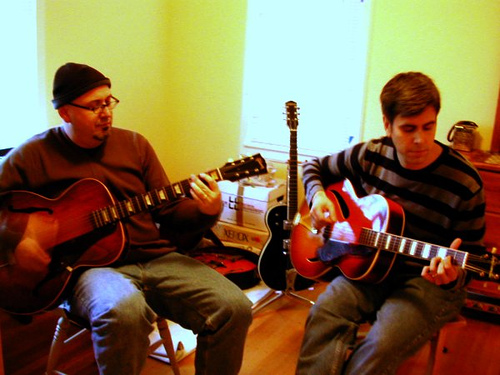guitar: (1, 153, 269, 324), (287, 173, 500, 287)
